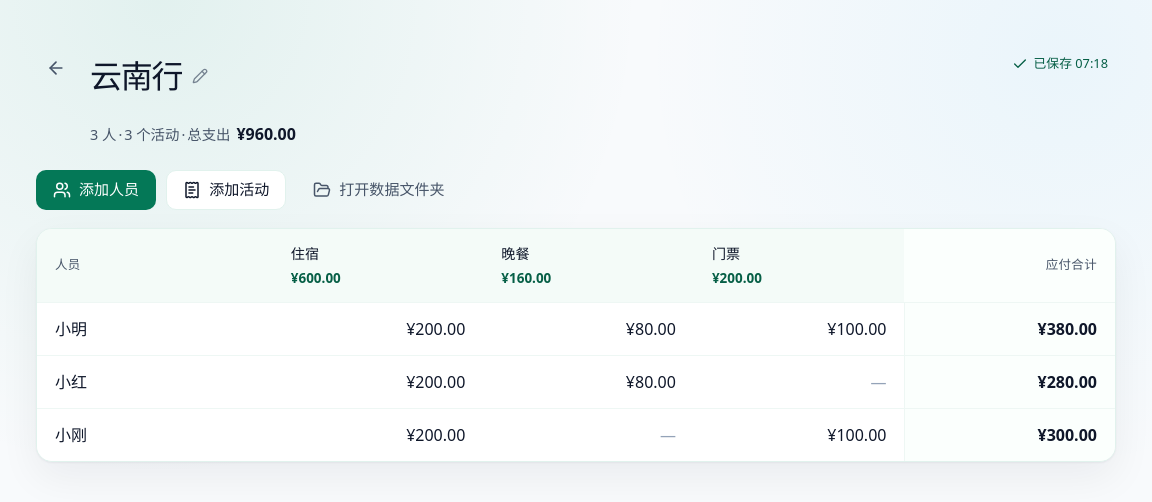
ProjectScreen › keeps the title editor open and shows a save error for duplicate names
Click the button with aria-label "编辑项目名称": {"x": 153, "y": 76} x1=90 y1=48 x2=216 y2=104
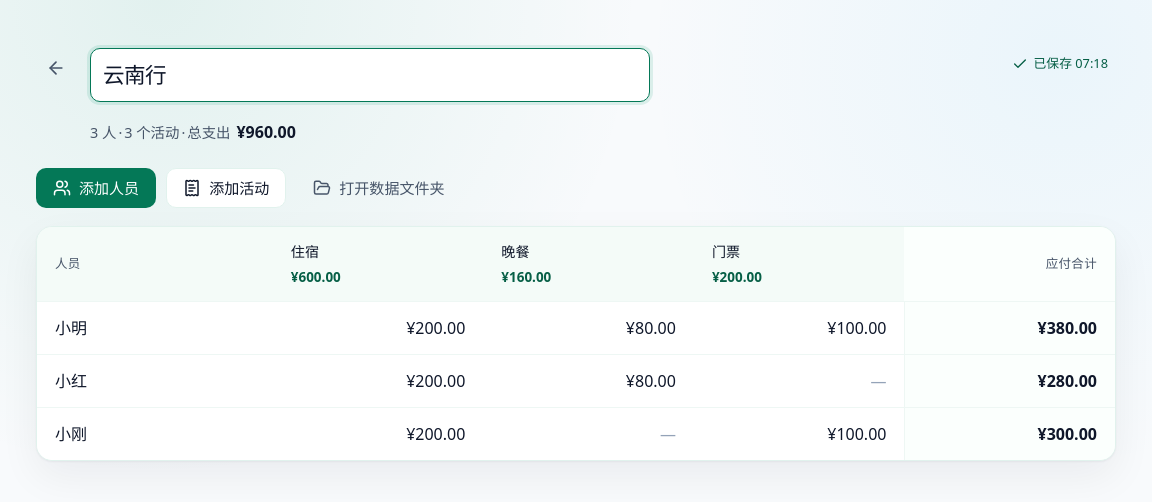
Replace the text in the field named "项目名称" with "已有项目": {"x": 370, "y": 75} x1=90 y1=48 x2=650 y2=102
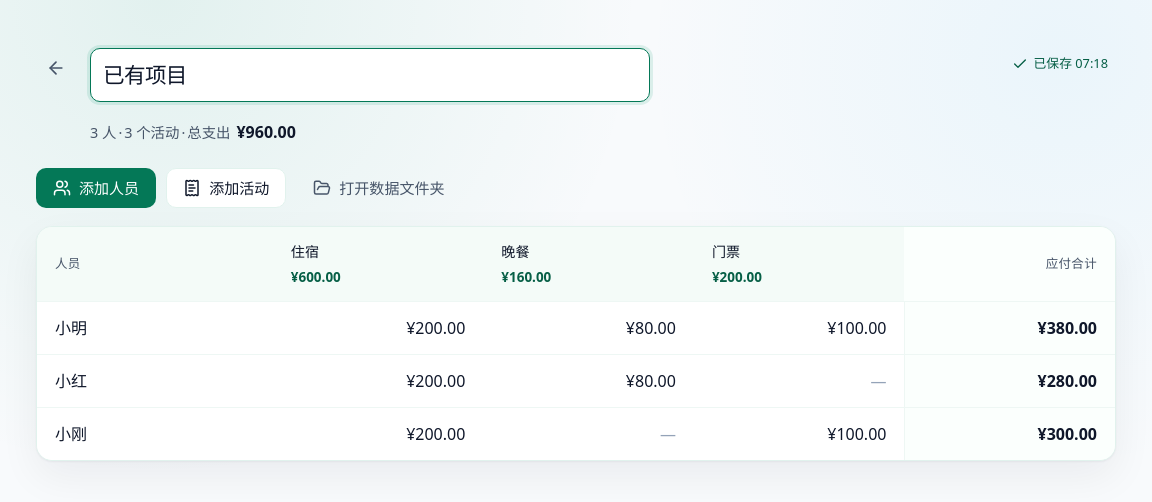
Press Enter
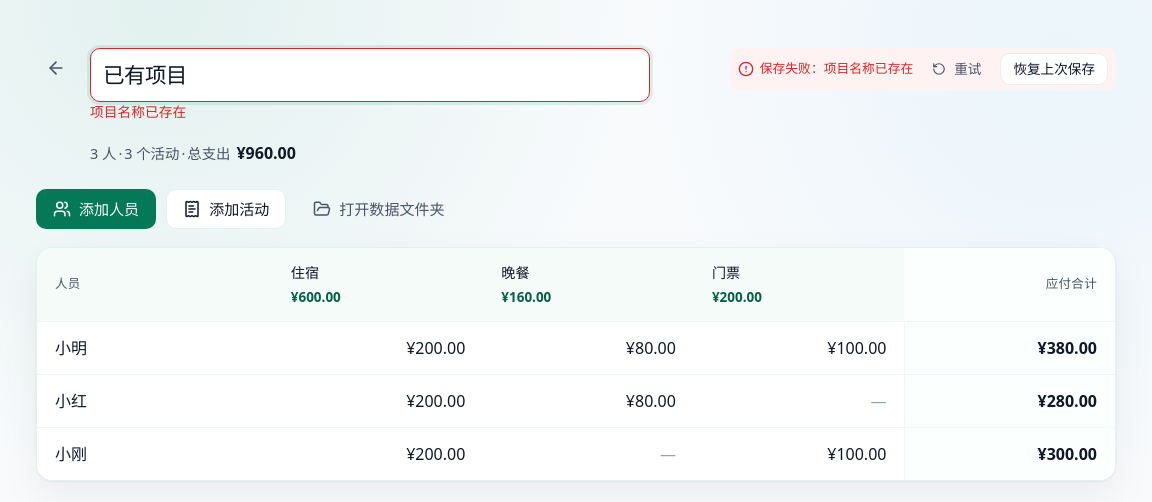
Check: the message "项目名称已存在" is shown, box x1=90 y1=102 x2=186 y2=121
Check: the button "重试" is shown, box x1=919 y1=53 x2=994 y2=85
